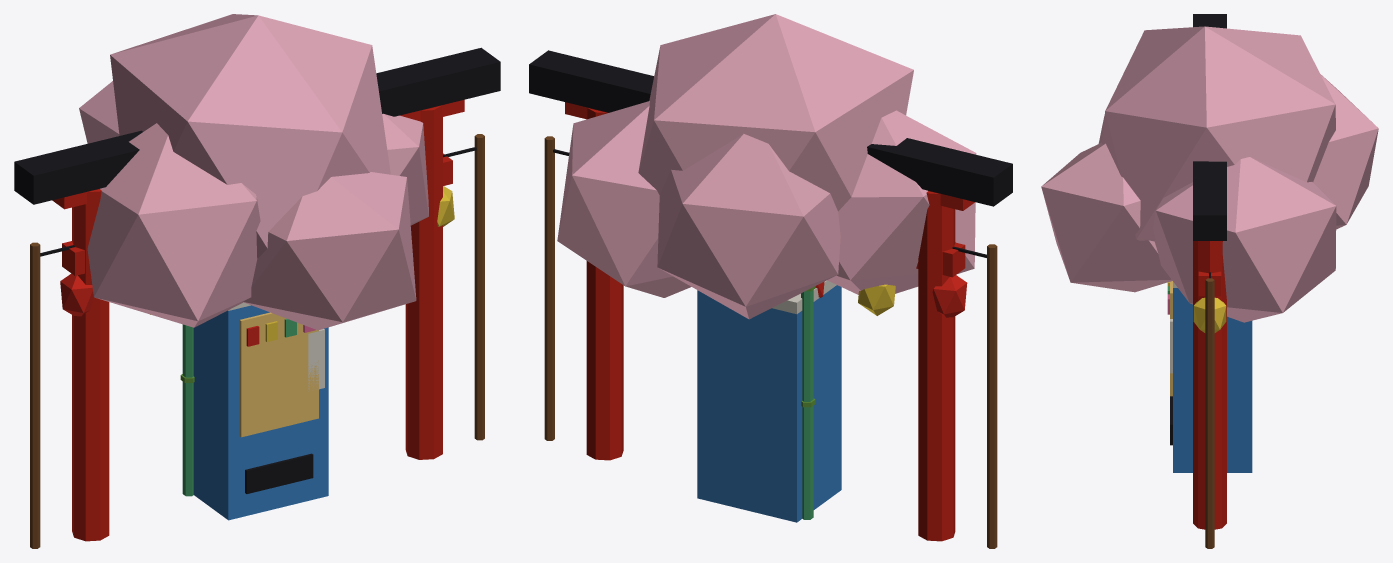
Rendered from props.glb.
3 views of the same model, side by side, from view 1: azimuth 30°, elevation 25°; view 2: azimuth 150°, elevation 25°; view 3: azimuth 270°, elevation 25° (orthographic). The views are drawn at different scales.
Parts seen in each view (by area): view 1: sakura_tree, torii_gate, vending_machine, lantern_string, bamboo_cluster; view 2: sakura_tree, torii_gate, vending_machine, lantern_string, bamboo_cluster; view 3: sakura_tree, torii_gate, vending_machine, lantern_string.
Boxes of the visible parts, x1=… form: sakura_tree: x1=79, y1=14, x2=428, y2=330; torii_gate: x1=14, y1=47, x2=500, y2=541; vending_machine: x1=193, y1=302, x2=328, y2=520; lantern_string: x1=30, y1=134, x2=484, y2=548; bamboo_cluster: x1=180, y1=324, x2=194, y2=496; sakura_tree: x1=557, y1=14, x2=976, y2=319; torii_gate: x1=529, y1=50, x2=1012, y2=541; vending_machine: x1=697, y1=280, x2=841, y2=522; lantern_string: x1=544, y1=136, x2=997, y2=548; bamboo_cluster: x1=801, y1=286, x2=815, y2=519; sakura_tree: x1=1041, y1=26, x2=1378, y2=322; torii_gate: x1=1193, y1=14, x2=1226, y2=529; vending_machine: x1=1167, y1=281, x2=1252, y2=472; lantern_string: x1=1193, y1=272, x2=1226, y2=548.
Bounding box in the file's own units: 4.2 × 4.13 × 2.98.
